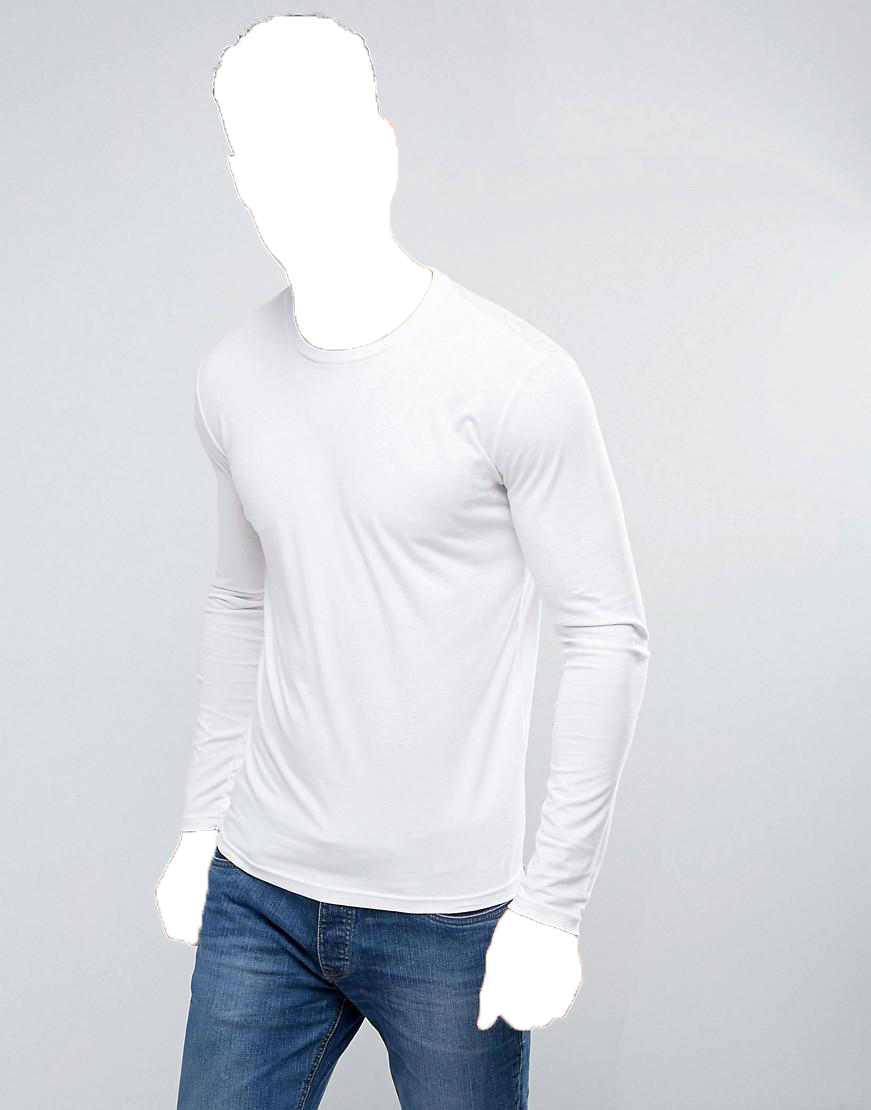teeshirt: (173, 254, 657, 930)
